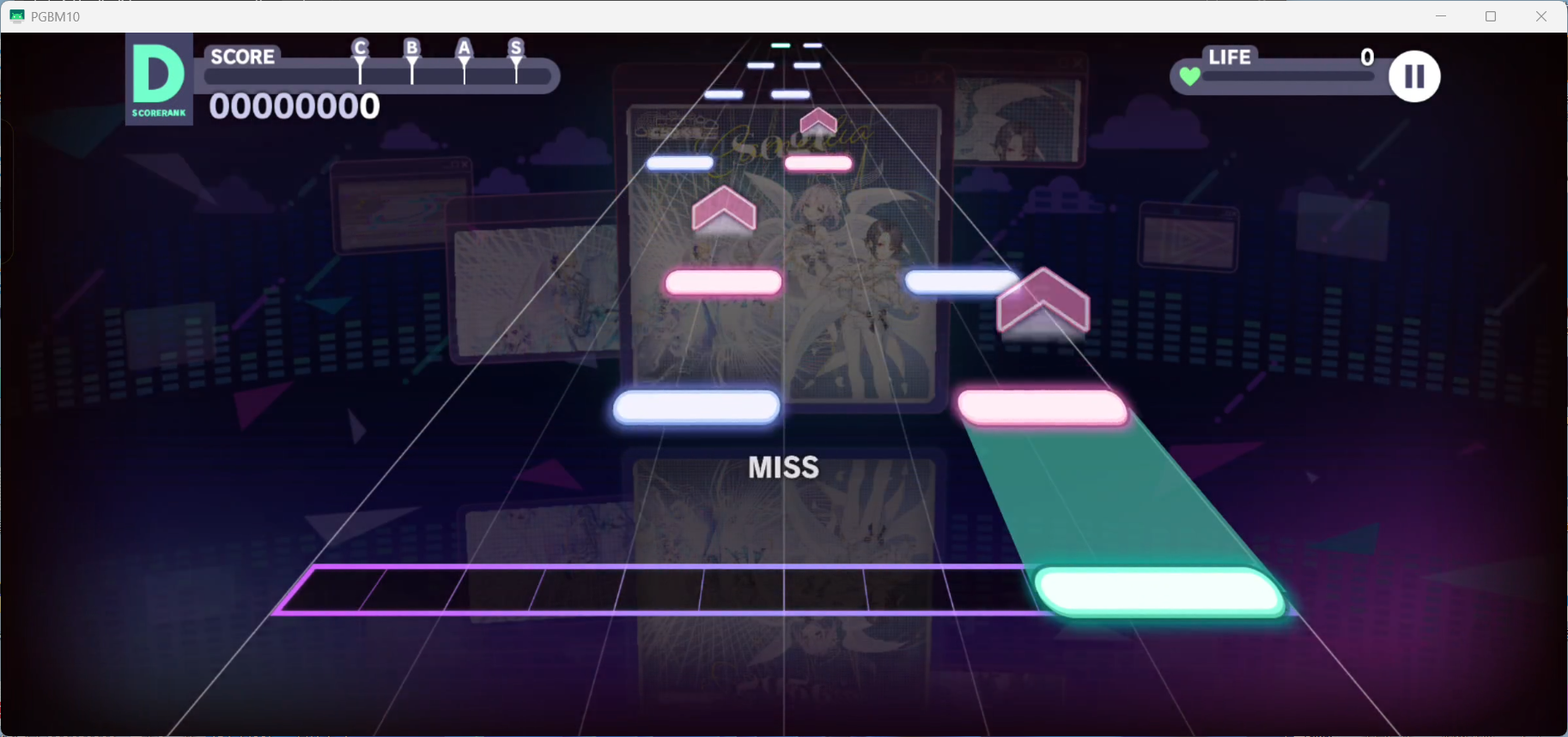flick: (997, 265, 1090, 345), (692, 184, 757, 239), (799, 106, 838, 138)
hold: (961, 427, 1265, 566)
tap: (1033, 566, 1286, 619), (957, 389, 1128, 426), (613, 389, 780, 424), (904, 269, 1021, 295), (665, 269, 782, 295), (647, 155, 713, 170), (784, 156, 852, 170), (770, 89, 810, 100), (703, 90, 744, 99), (746, 62, 775, 69), (793, 62, 821, 69), (803, 43, 822, 48), (771, 43, 790, 48)
